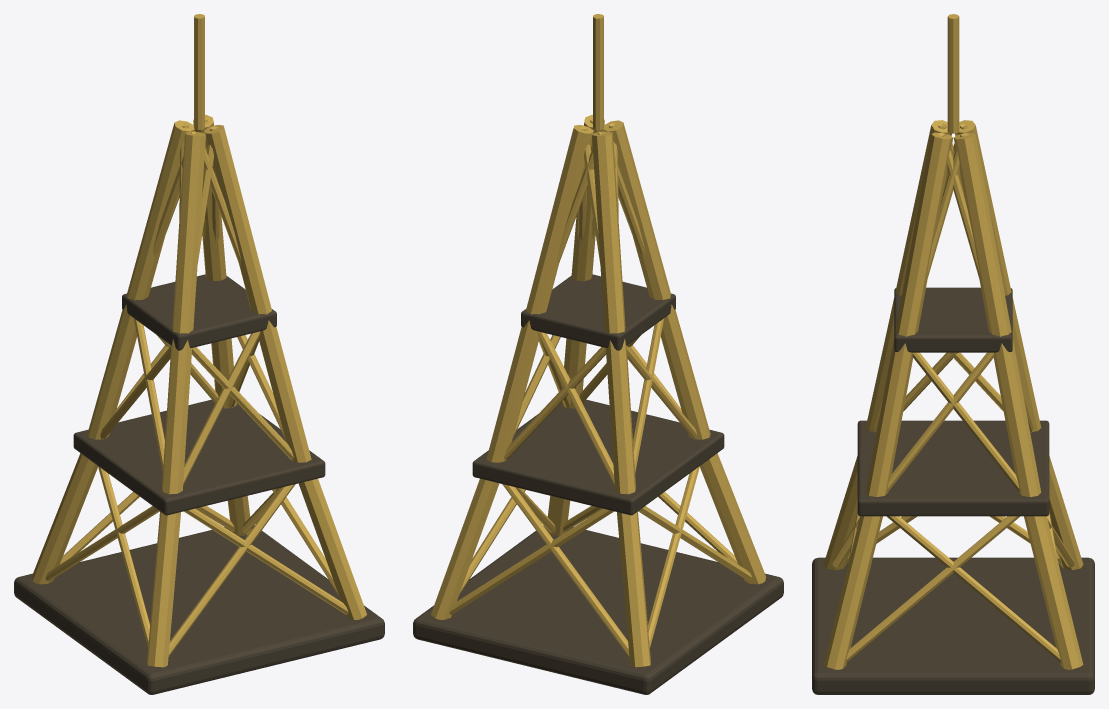
File: Tower.fbx
3 renders of one model, left to right at view 1: azimuth 30°, elevation 25°; view 2: azimuth 150°, elevation 25°; view 3: azimuth 270°, elevation 25°, orthographic. The views are drawn at different scales.
Visible parts, largest first — view 1: Tower pedestal, Observation deck, Observation deck.001, Tower angled leg.011, Tower angled leg.005, Tower angled leg.009, Tower angled leg.010, Tower angled leg.008, Tower angled leg.003, Tower angled leg.006, Tower angled leg.004, Tower angled leg.007 (+18 smaller); view 2: Tower pedestal, Observation deck, Observation deck.001, Tower angled leg.008, Tower angled leg.002, Tower angled leg.006, Tower angled leg.007, Tower angled leg.011, Tower angled leg, Tower angled leg.009, Tower angled leg.001, Tower angled leg.010 (+18 smaller); view 3: Tower pedestal, Observation deck, Observation deck.001, Tower angled leg.002, Tower angled leg.005, Tower angled leg, Tower angled leg.003, Tower angled leg.001, Tower angled leg.004, Tower X brace.002, Tower X brace.003, Tower spire (+12 smaller).
Boxes of the visible parts, x1,y1,x2,y2 form: Tower pedestal: [14, 525, 384, 694]; Observation deck: [73, 399, 325, 515]; Observation deck.001: [122, 274, 276, 350]; Tower angled leg.011: [172, 131, 205, 333]; Tower angled leg.005: [204, 125, 271, 314]; Tower angled leg.009: [147, 511, 180, 667]; Tower angled leg.010: [162, 339, 192, 494]; Tower angled leg.008: [127, 120, 194, 300]; Tower angled leg.003: [298, 478, 366, 619]; Tower angled leg.006: [32, 453, 97, 584]; Tower angled leg.004: [258, 320, 311, 462]; Tower angled leg.007: [87, 304, 136, 439]; Tower pedestal: [413, 525, 783, 694]; Observation deck: [472, 399, 724, 515]; Observation deck.001: [521, 274, 675, 350]; Tower angled leg.008: [592, 131, 625, 333]; Tower angled leg.002: [526, 125, 593, 314]; Tower angled leg.006: [617, 511, 650, 667]; Tower angled leg.007: [605, 339, 635, 494]; Tower angled leg.011: [603, 120, 670, 300]; Tower angled leg: [431, 478, 499, 619]; Tower angled leg.009: [700, 453, 765, 584]; Tower angled leg.001: [486, 320, 539, 462]; Tower angled leg.010: [661, 304, 710, 439]; Tower pedestal: [812, 557, 1094, 694]; Observation deck: [857, 420, 1049, 516]; Observation deck.001: [894, 287, 1012, 352]; Tower angled leg.002: [953, 132, 1011, 336]; Tower angled leg.005: [895, 132, 953, 336]; Tower angled leg: [1024, 516, 1083, 669]; Tower angled leg.003: [823, 516, 882, 669]; Tower angled leg.001: [994, 339, 1041, 496]; Tower angled leg.004: [865, 339, 912, 496]; Tower X brace.002: [887, 516, 1060, 662]; Tower X brace.003: [846, 516, 1019, 662]; Tower spire: [947, 14, 959, 133].
Bounding box in the file's own units: 38 × 92 × 38.
